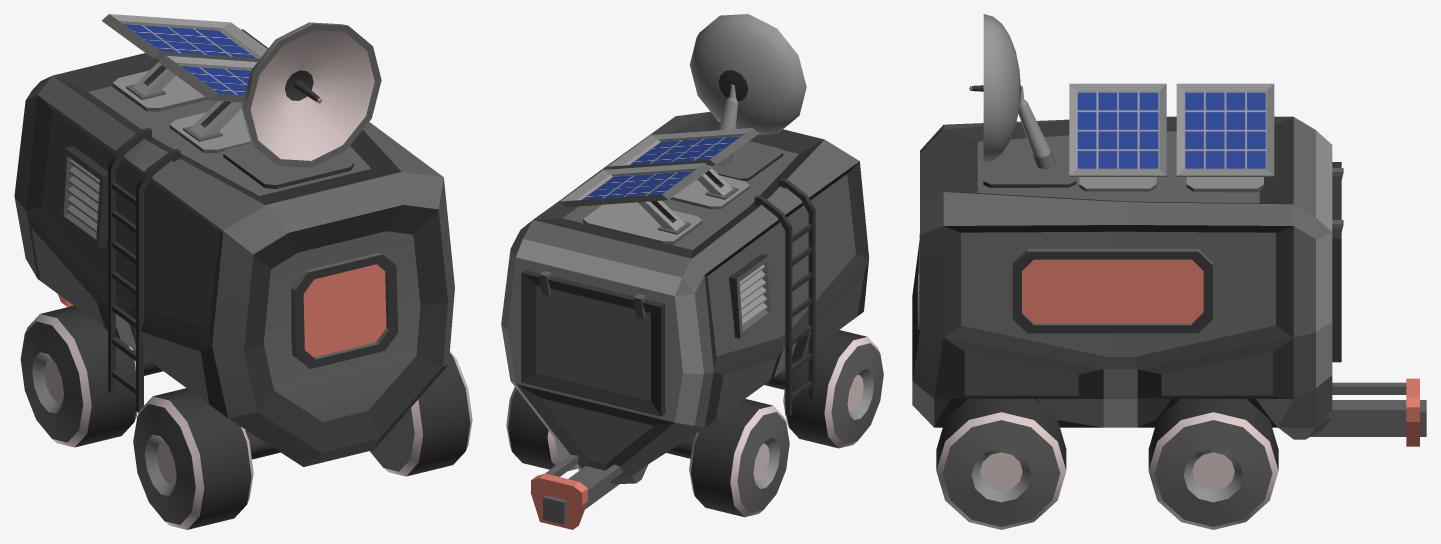
Rendered from Truck_Trailer.fbx.
3 renders of one model, left to right at view 1: azimuth 30°, elevation 25°; view 2: azimuth 150°, elevation 25°; view 3: azimuth 270°, elevation 25°, orthographic. The views are drawn at different scales.
Parts seen in each view (by area): view 1: Truck_Trailer, Truck_Trailer_Satellite_Dish; view 2: Truck_Trailer, Truck_Trailer_Satellite_Dish; view 3: Truck_Trailer, Truck_Trailer_Satellite_Dish.
Part boxes in pixels (x1=…): Truck_Trailer: x1=14, y1=14, x2=472, y2=529; Truck_Trailer_Satellite_Dish: x1=241, y1=22, x2=381, y2=167; Truck_Trailer: x1=501, y1=84, x2=883, y2=529; Truck_Trailer_Satellite_Dish: x1=689, y1=14, x2=806, y2=134; Truck_Trailer: x1=912, y1=83, x2=1426, y2=529; Truck_Trailer_Satellite_Dish: x1=969, y1=14, x2=1020, y2=162.
Size of the model in its own units: 251 by 401 by 417.
